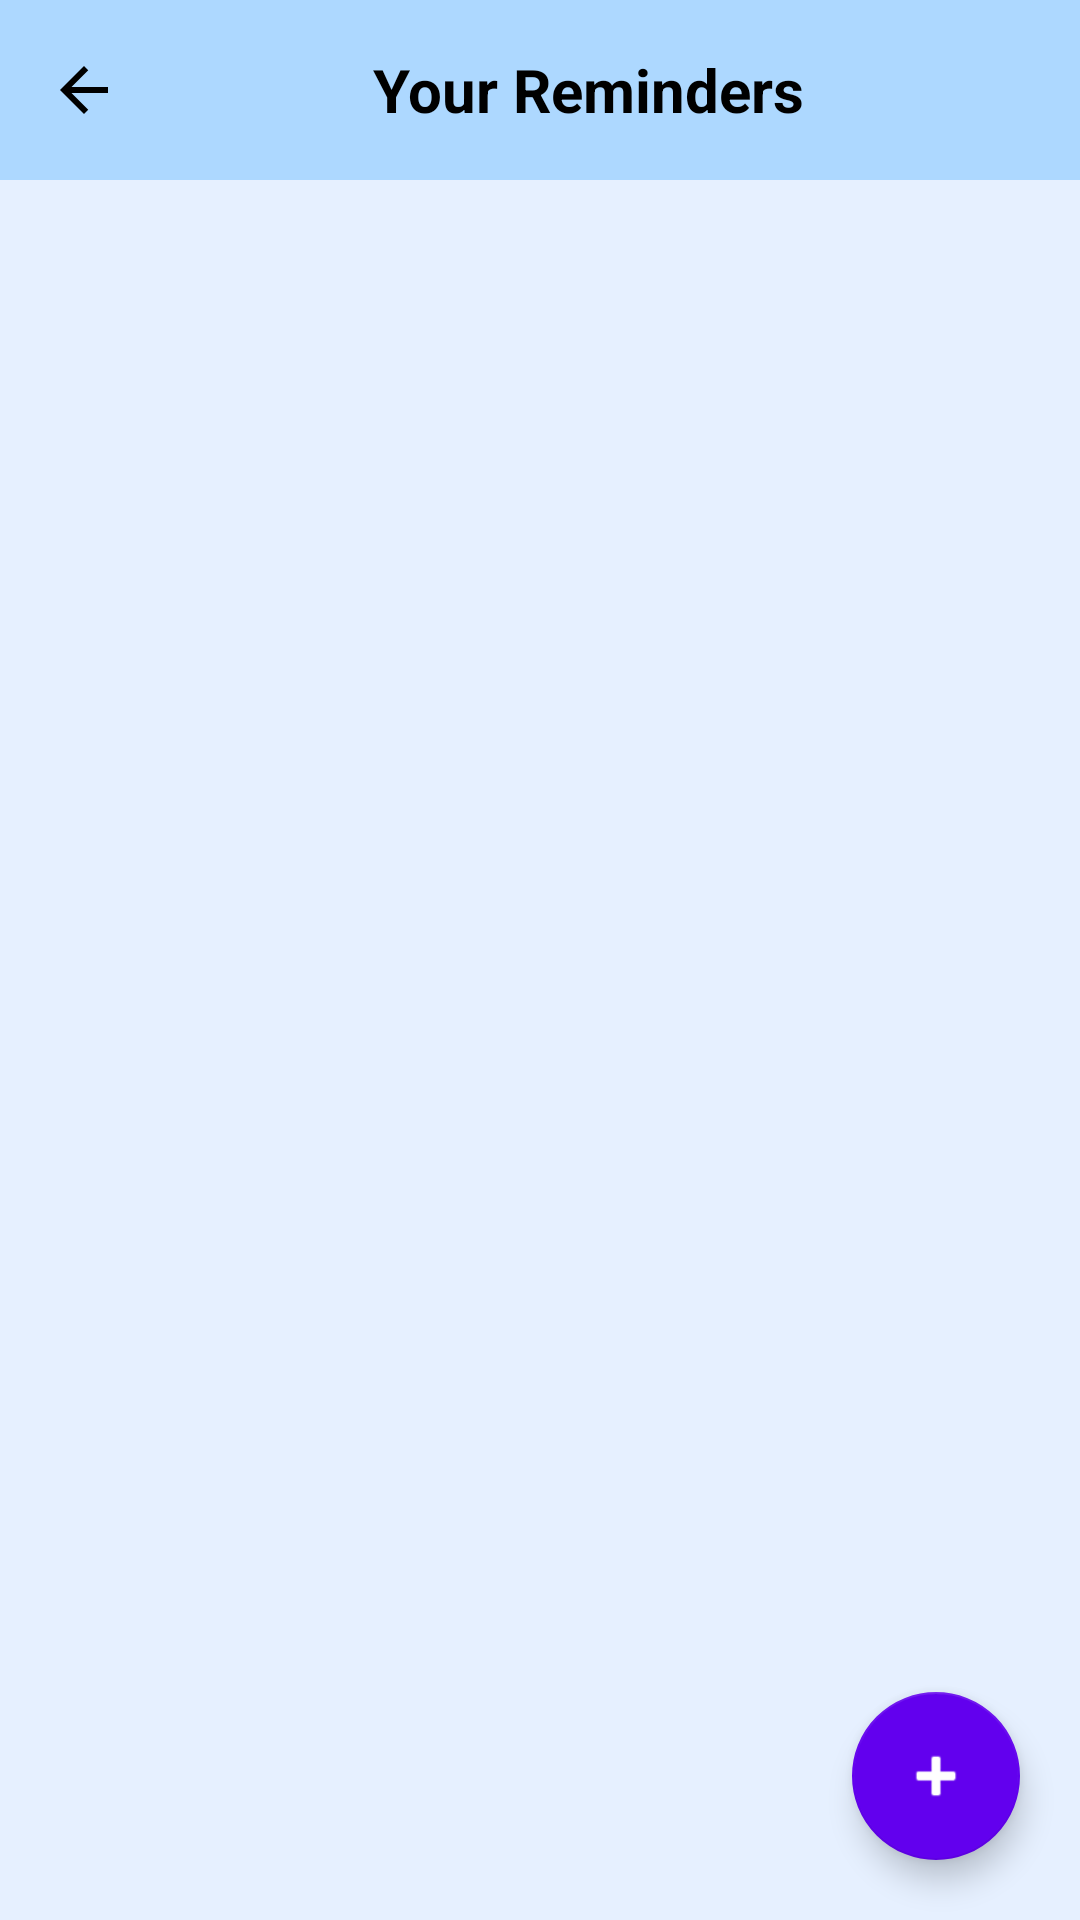

Icon bounding boxes for this 1080*1920 phone screenshot, format (x1, y1, x2, y2):
Add Reminder: (852, 1692, 1020, 1860)
Back: (60, 66, 108, 114)
